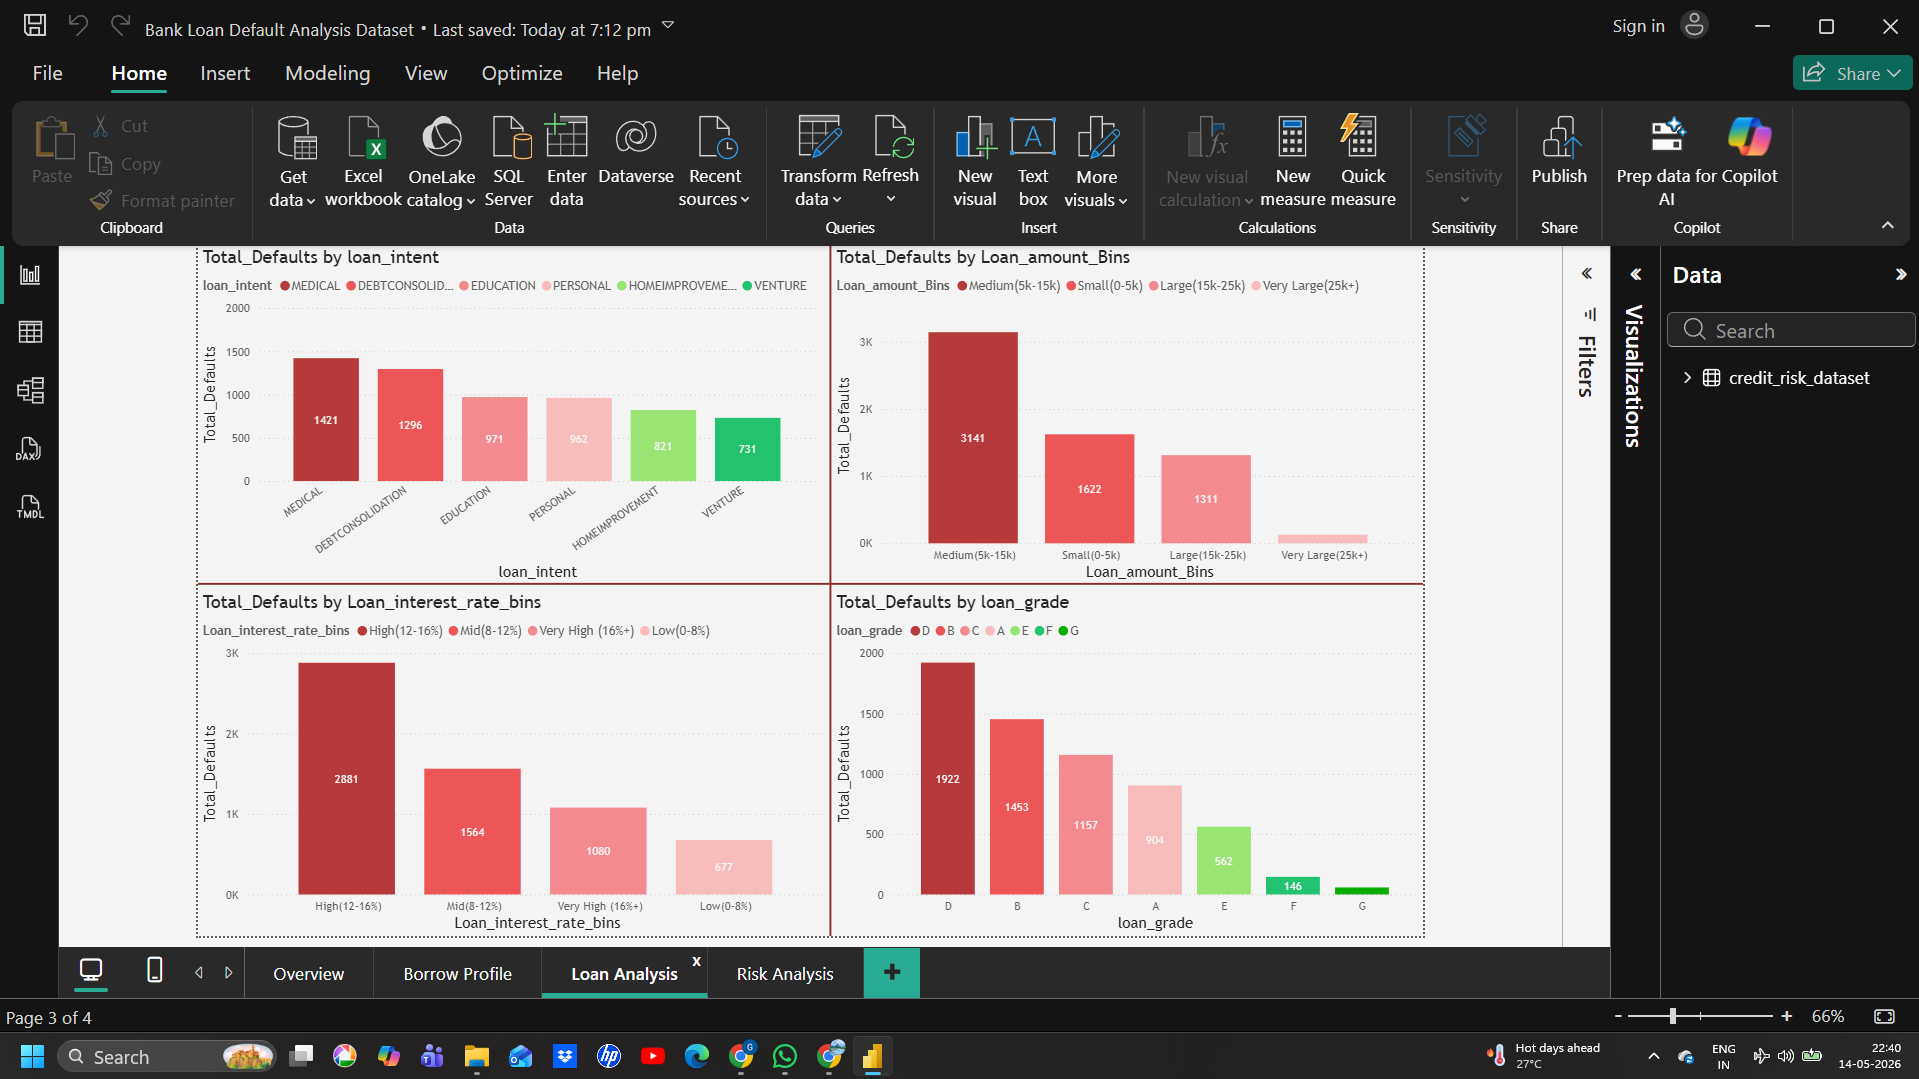

The page's visual inventory and layout, read from the dashboard file:
{"tool":"powerbi","page":{"name":"Loan Analysis","canvas":[1280,720],"ordinal":2},"visuals":[{"type":"columnChart","title":"Total_Defaults by loan_intent","fields":{"Category":["credit_risk_dataset.loan_intent"],"Y":["credit_risk_dataset.Total_Defaults"],"Series":["credit_risk_dataset.loan_intent"]},"box":[0,0,650.8,354],"z":0},{"type":"columnChart","title":"Total_Defaults by loan_grade","fields":{"Category":["credit_risk_dataset.loan_grade"],"Y":["credit_risk_dataset.Total_Defaults"],"Series":["credit_risk_dataset.loan_grade"]},"box":[661.9,360.3,617.5,360.3],"z":1000},{"type":"columnChart","title":"Total_Defaults by Loan_amount_Bins","fields":{"Category":["credit_risk_dataset.Loan_amount_Bins"],"Y":["credit_risk_dataset.Total_Defaults"],"Series":["credit_risk_dataset.Loan_amount_Bins"]},"box":[661.9,0,617.5,354],"z":2000},{"type":"columnChart","title":"Total_Defaults by Loan_interest_rate_bins","fields":{"Category":["credit_risk_dataset.Loan_interest_rate_bins"],"Y":["credit_risk_dataset.Total_Defaults"],"Series":["credit_risk_dataset.Loan_interest_rate_bins"]},"box":[0,360.3,661.9,360.3],"z":3000},{"type":"shape","box":[0,336.5,1279.4,33.3],"z":4000},{"type":"shape","box":[639.7,0,42.9,720.6],"z":5000}]}

Visuals, with their boxes on the page's 1280x720 design canvas (x1, y1, x2, y2). These are canvas units, not pixel positions in the 1919x1079 screenshot, which may show the page scaled, cropped or inside an application window:
"Total_Defaults by loan_intent" columnChart: region(0, 0, 651, 354)
"Total_Defaults by loan_grade" columnChart: region(662, 360, 1279, 721)
"Total_Defaults by Loan_amount_Bins" columnChart: region(662, 0, 1279, 354)
"Total_Defaults by Loan_interest_rate_bins" columnChart: region(0, 360, 662, 721)
shape: region(0, 336, 1279, 370)
shape: region(640, 0, 683, 721)
